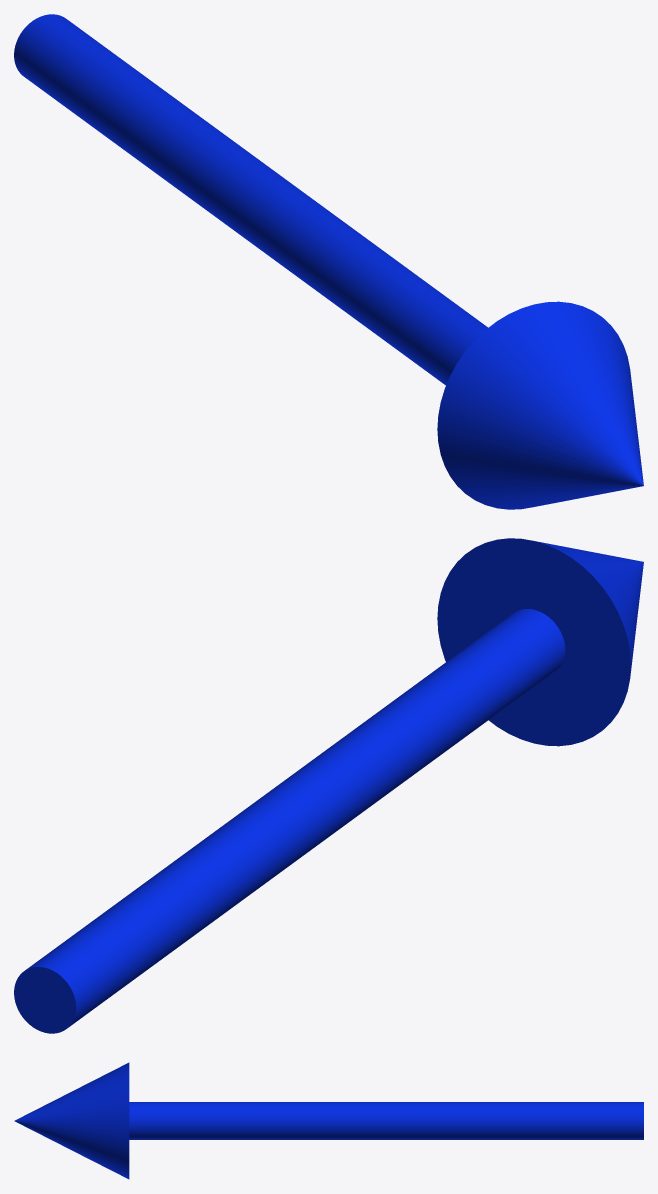
File: arrow.obj
3 renders of one model, top to bottom at view 1: azimuth 30°, elevation 25°; view 2: azimuth 150°, elevation 25°; view 3: azimuth 270°, elevation 25°, orthographic. The views are drawn at different scales.
Parts seen in each view (by area): view 1: CylindricalArrow; view 2: CylindricalArrow; view 3: CylindricalArrow.
Part boxes in pixels (box(x1,y1,x2,y2)): CylindricalArrow: box(14, 14, 643, 509); CylindricalArrow: box(14, 538, 643, 1033); CylindricalArrow: box(14, 1062, 643, 1179).
Size of the model in its own units: 0.56 by 0.56 by 3.
